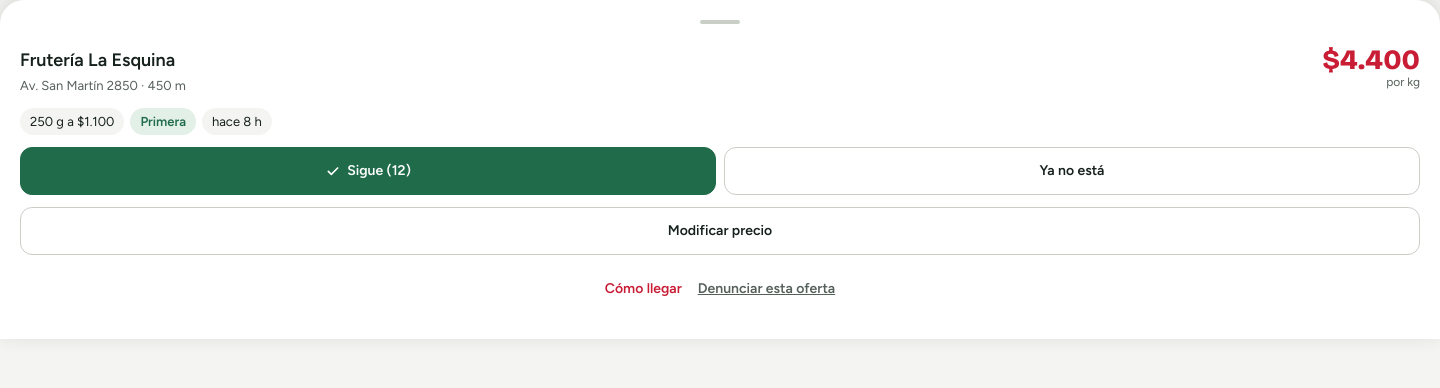
Test case: OfferSheet › con ALREADY_VOTED muestra el estado votado (E7)
What coordinates should you click on to do the following:
click the button "Ya no está"
I would click on:
 (1072, 171)
Its box is top-left (724, 147), bottom-right (1420, 195).
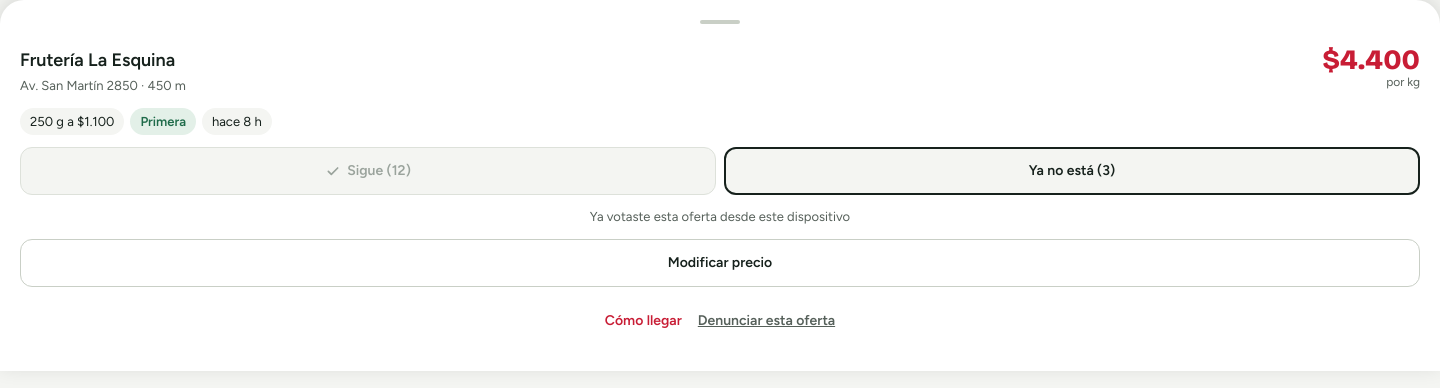
Expected: the text "Ya votaste esta oferta desde este dispositivo" is shown, top-left (590, 209), bottom-right (850, 224)
